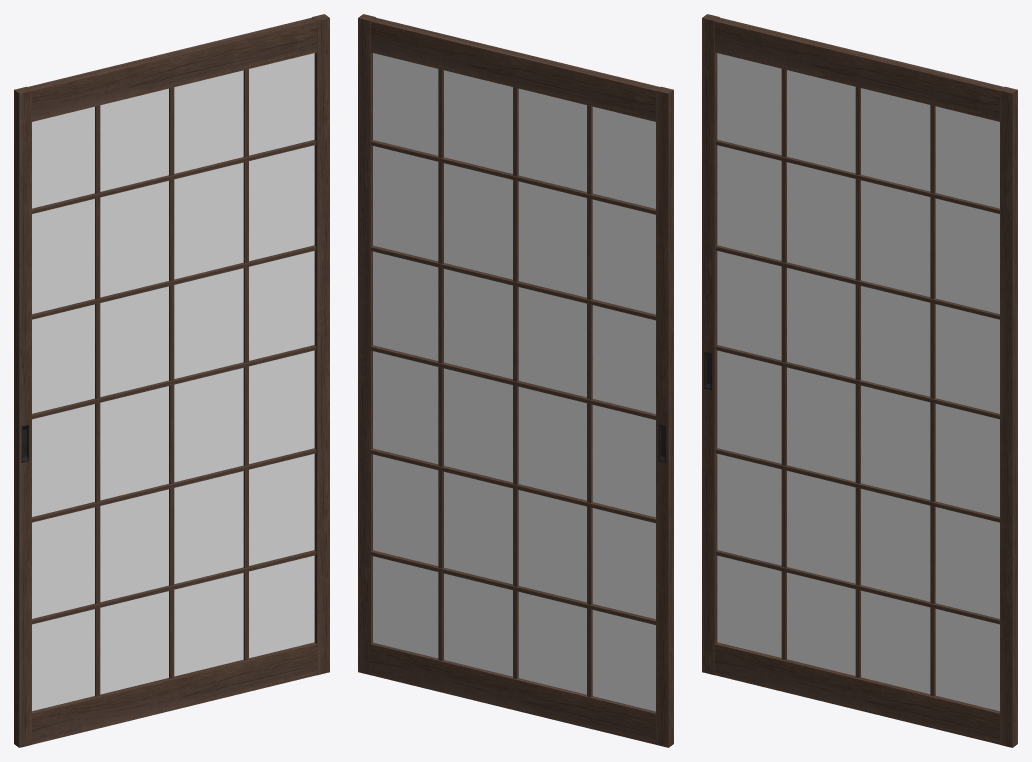
The model's file is hikido03ar.fbx.
3 views of the same model, side by side, from view 1: azimuth 30°, elevation 25°; view 2: azimuth 150°, elevation 25°; view 3: azimuth 330°, elevation 25° (orthographic).
Parts seen in each view (by area): view 1: hikido03ar; view 2: hikido03ar; view 3: hikido03ar.
Part boxes in pixels (x1,y1,x2,y2): hikido03ar: (14, 14, 329, 747); hikido03ar: (358, 14, 673, 747); hikido03ar: (702, 14, 1017, 747).
Bounding box in the file's own units: 110 × 221 × 3.37.
